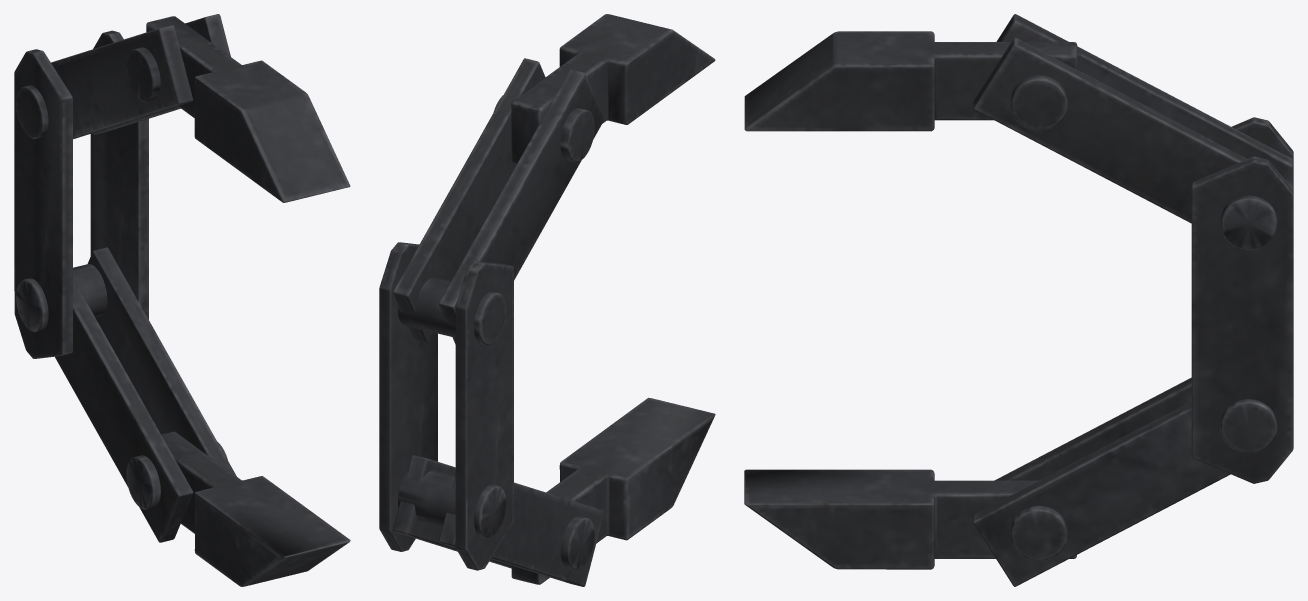
The model's file is hand.obj.
3 renders of one model, left to right at view 1: azimuth 30°, elevation 25°; view 2: azimuth 150°, elevation 25°; view 3: azimuth 270°, elevation 25°, orthographic. The views are drawn at different scales.
Visible parts, largest first — view 1: Hand_a_low.016, Hand_a_low.017, Hand_a_low.018, Hand_a_low.014, Hand_a_low.013, Hand_a_low.012, Hand_a_low.004, Hand_a_low.003, Hand_a_low.001, Hand_a_low.002, Hand_a_low.011; view 2: Hand_a_low.016, Hand_a_low.018, Hand_a_low.017, Hand_a_low.012, Hand_a_low.011, Hand_a_low.014, Hand_a_low.004, Hand_a_low.002, Hand_a_low.013, Hand_a_low.001, Hand_a_low.003; view 3: Hand_a_low.016, Hand_a_low.017, Hand_a_low.018, Hand_a_low.011, Hand_a_low.013, Hand_a_low.012, Hand_a_low.014, Hand_a_low.001, Hand_a_low.003, Hand_a_low.002, Hand_a_low.004.
Boxes of the visible parts, x1,y1,x2,y2 form: Hand_a_low.016: (14,30,148,358); Hand_a_low.017: (146,16,350,202); Hand_a_low.018: (161,431,350,586); Hand_a_low.014: (55,278,193,542); Hand_a_low.013: (87,247,236,476); Hand_a_low.012: (51,25,193,139); Hand_a_low.004: (16,264,107,331); Hand_a_low.003: (126,442,227,509); Hand_a_low.001: (126,47,160,101); Hand_a_low.002: (16,85,48,138); Hand_a_low.011: (92,14,230,134); Hand_a_low.016: (379,242,513,570); Hand_a_low.018: (511,397,715,584); Hand_a_low.017: (511,14,715,164); Hand_a_low.012: (439,69,603,344); Hand_a_low.011: (393,58,545,342); Hand_a_low.014: (439,476,604,586); Hand_a_low.004: (398,470,506,538); Hand_a_low.002: (398,277,506,345); Hand_a_low.013: (393,455,511,568); Hand_a_low.001: (493,95,594,162); Hand_a_low.003: (560,516,594,570); Hand_a_low.016: (1191,117,1293,483); Hand_a_low.017: (744,31,1077,131); Hand_a_low.018: (744,469,1076,569); Hand_a_low.011: (973,37,1292,223); Hand_a_low.013: (973,401,1230,586); Hand_a_low.012: (996,14,1292,178); Hand_a_low.014: (994,377,1191,480); Hand_a_low.001: (1010,75,1067,130); Hand_a_low.003: (1010,506,1067,560); Hand_a_low.002: (1220,195,1277,249); Hand_a_low.004: (1220,399,1277,453).
Size of the model in its own units: 0.0921 by 0.4517 by 0.4145.
Materials: 1 (1 with a texture image).
